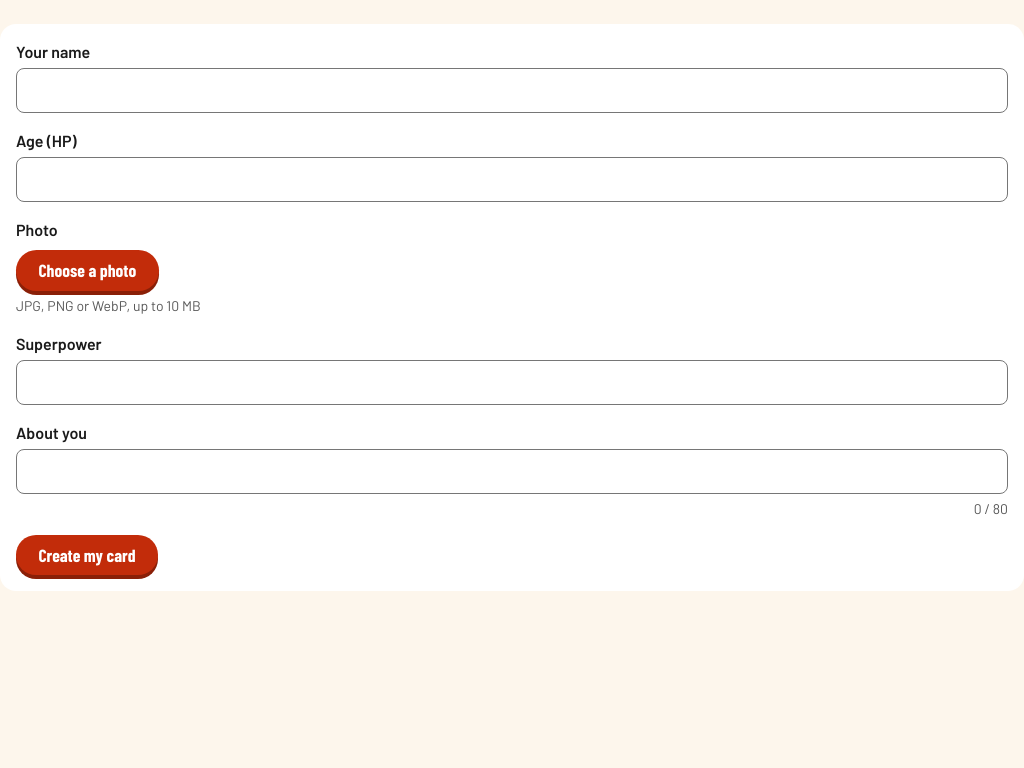
Scenario: CardForm › shows no error while typing, and the error when leaving the field
The image size is (1024, 768).
Type "150" into the field labelled "Age (HP)". click: (512, 180)
box: [16,157,1008,202]
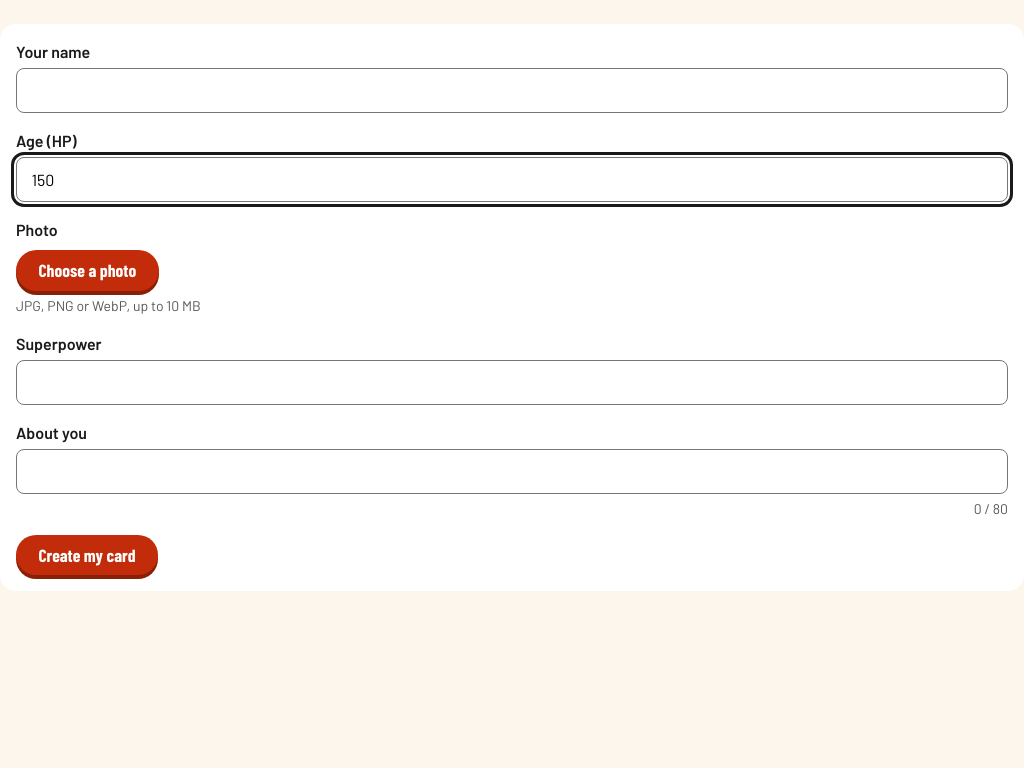
Check: the text "Age must be 1–120" is not shown
Press Tab
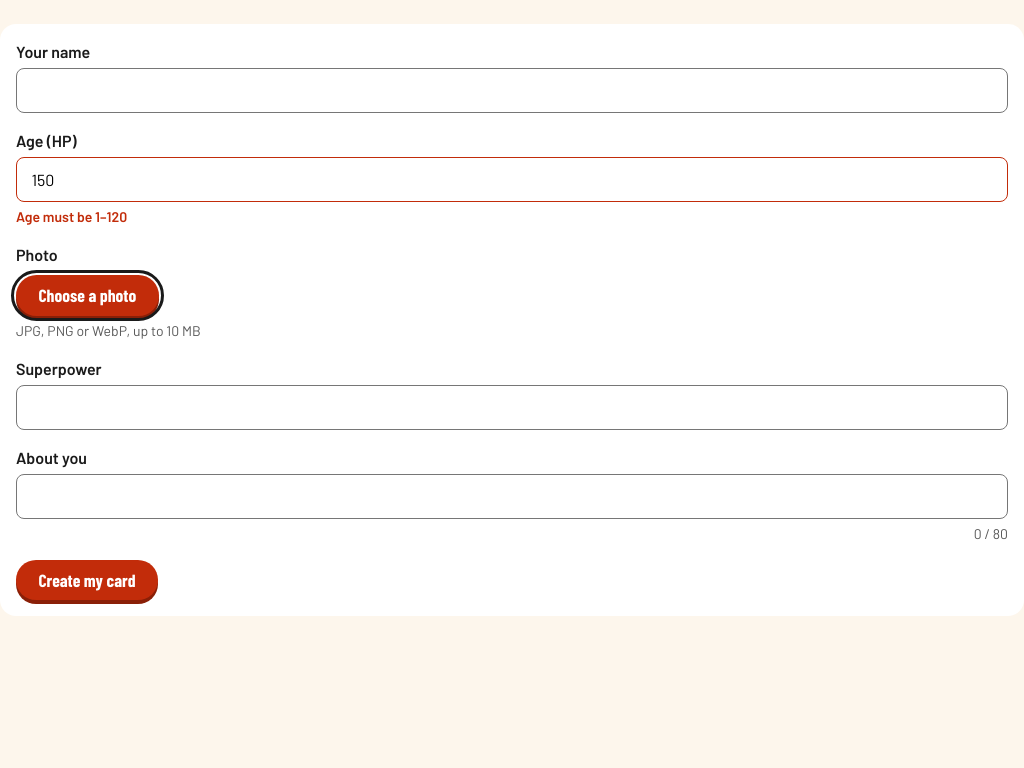
Check: the text "Age must be 1–120" is shown, box [16,208,127,225]
